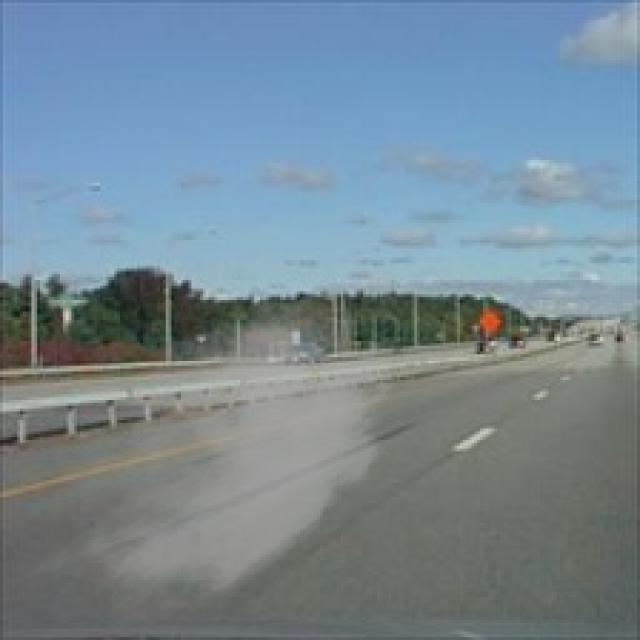Smoke: (29, 280, 408, 634)
